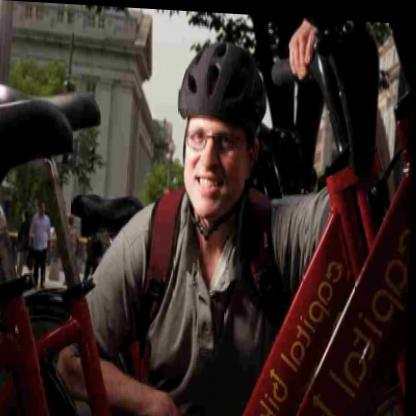With Helmet: (168, 41, 272, 217)
